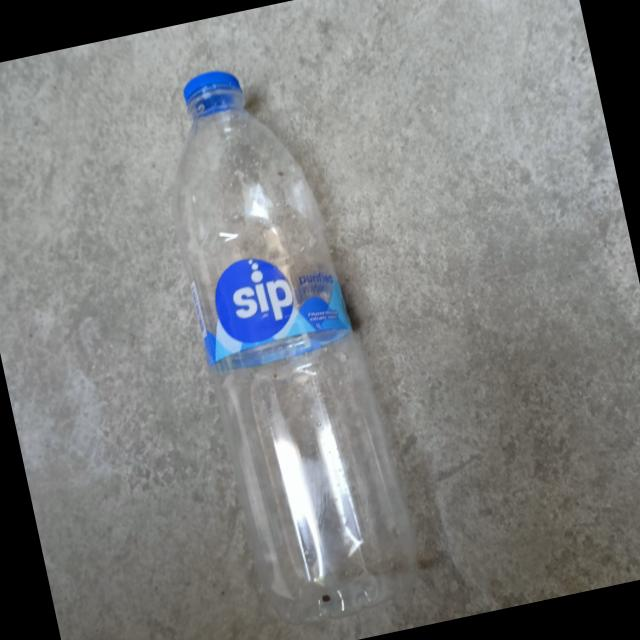Bottle: (173, 69, 418, 624)
